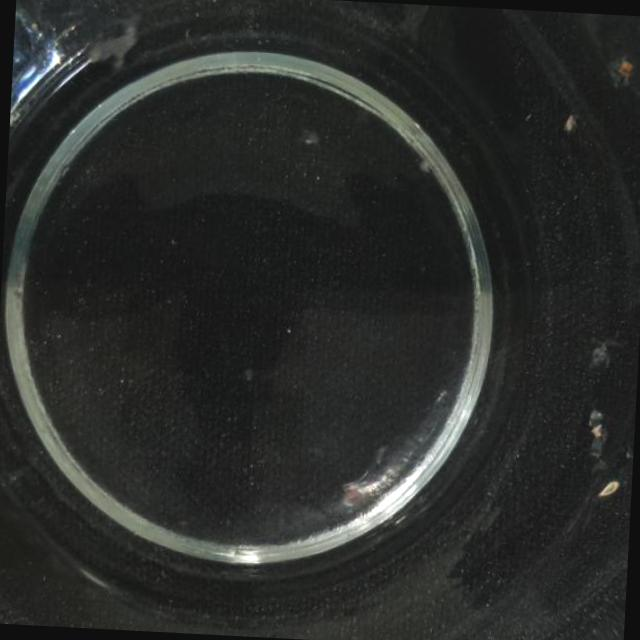fiber: (609, 48, 640, 91), (564, 105, 578, 138)
